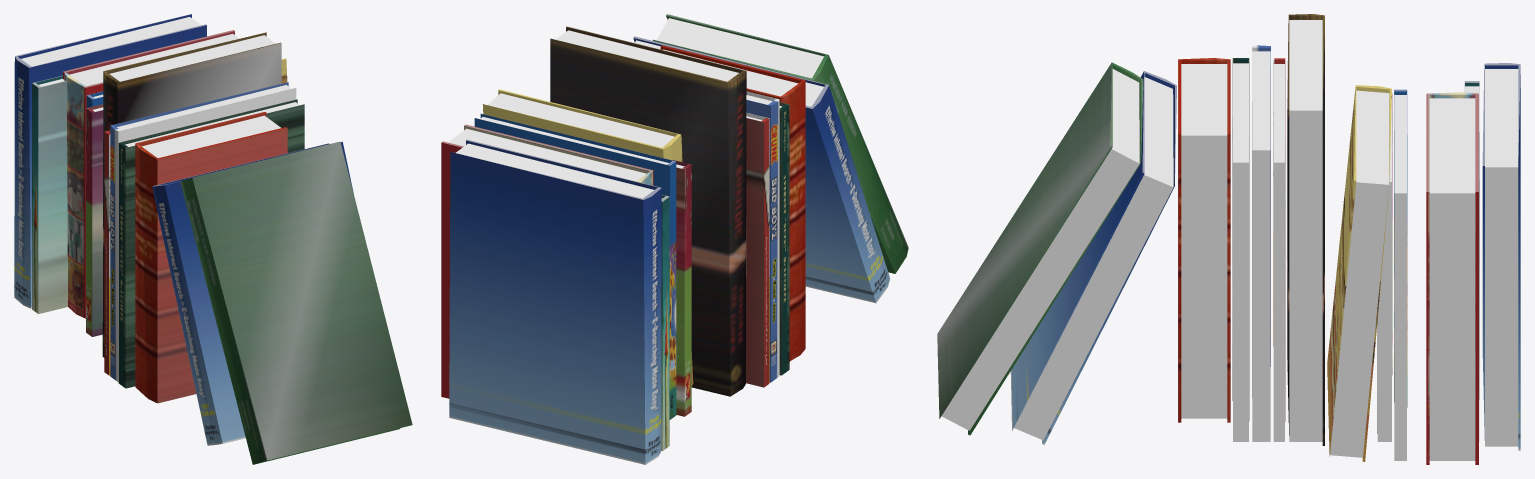
File: Books 2.FBX
3 views of the same model, side by side, from view 1: azimuth 30°, elevation 25°; view 2: azimuth 150°, elevation 25°; view 3: azimuth 270°, elevation 25° (orthographic). The views are drawn at different scales.
Parts seen in each view (by area): view 1: books 2; view 2: books 2; view 3: books 2.
Part boxes in pixels (<box>): books 2: <box>14,14,412,464</box>; books 2: <box>441,14,908,464</box>; books 2: <box>937,14,1520,464</box>.
Bounding box in the file's own units: 20.82 × 41.89 × 26.68.
1 material, 1 textured.
